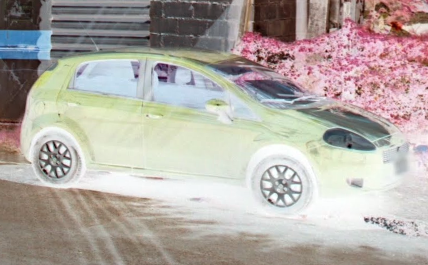car: (21, 48, 409, 221)
